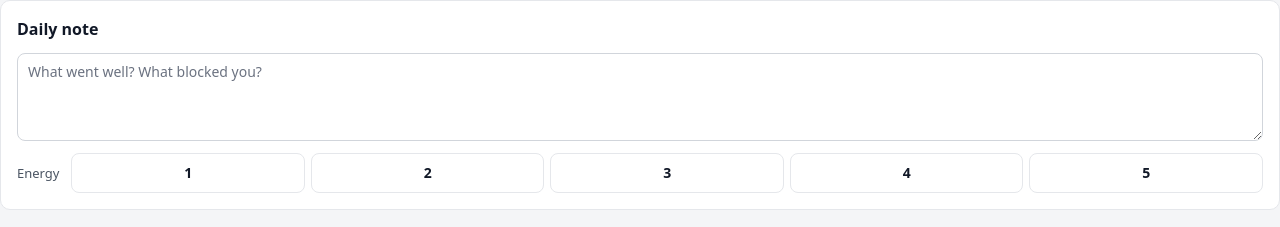
Test: DailyNoteCard autosave › saves 800 ms after typing stops, once
Type "Good" into the text box labelled "Daily note" at (640, 97), box x1=17 y1=53 x2=1263 y2=141
Wait 500 ms
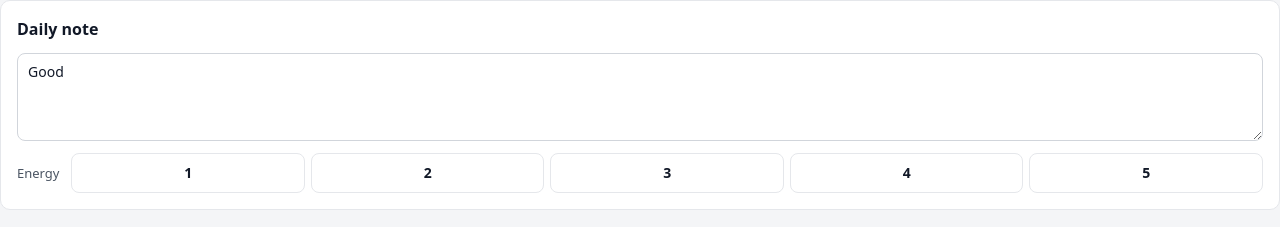
Replace the text in the text box labelled "Daily note" with "Good focus" at (640, 97), box x1=17 y1=53 x2=1263 y2=141
Wait 800 ms
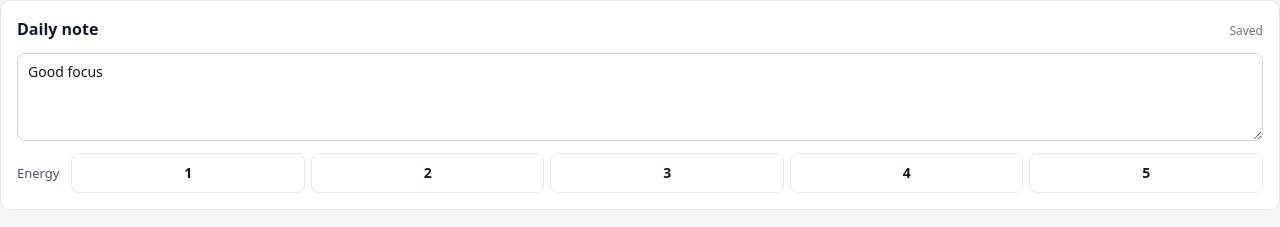
Now the text "Saved" is shown, box x1=1229 y1=23 x2=1263 y2=39
